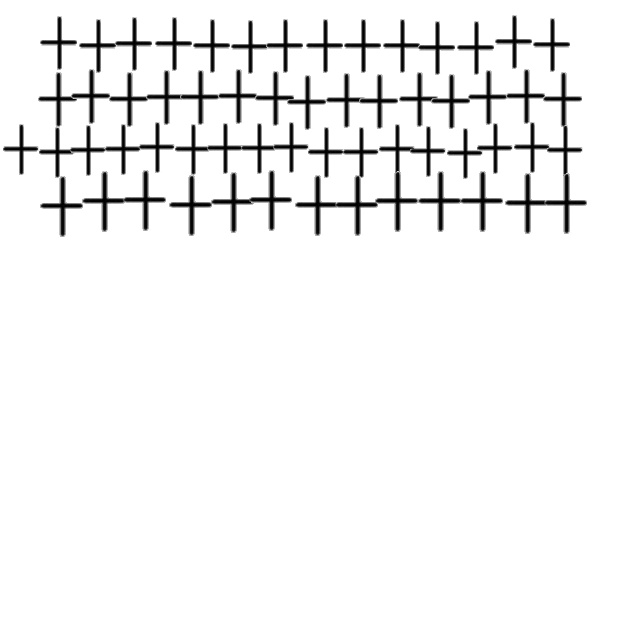double: (37, 176, 85, 238), (79, 171, 127, 233), (120, 170, 168, 232), (166, 175, 214, 237), (208, 172, 256, 234), (246, 170, 294, 232), (292, 175, 340, 237), (332, 175, 380, 237), (372, 171, 420, 233), (415, 171, 463, 233), (457, 171, 505, 233), (502, 173, 550, 235), (541, 173, 589, 235), (35, 72, 79, 128), (68, 69, 112, 125), (106, 72, 150, 128), (143, 70, 187, 126), (177, 70, 221, 126), (215, 69, 259, 125), (252, 71, 296, 127), (284, 75, 328, 131), (323, 73, 367, 129), (356, 74, 400, 130), (396, 72, 440, 128), (428, 74, 472, 130), (465, 70, 509, 126), (503, 69, 547, 125), (540, 72, 584, 128), (37, 16, 79, 72), (228, 20, 270, 76), (530, 18, 572, 74), (76, 20, 118, 74), (112, 18, 154, 72), (152, 18, 194, 72), (190, 20, 232, 74), (263, 20, 305, 74), (303, 20, 345, 74), (341, 20, 383, 74), (380, 20, 422, 74), (415, 22, 457, 76), (454, 22, 496, 76), (492, 16, 534, 70), (0, 124, 40, 176), (36, 127, 76, 179), (67, 125, 107, 177), (102, 124, 142, 176), (136, 122, 176, 174), (172, 124, 212, 176), (204, 123, 244, 175), (238, 123, 278, 175), (270, 122, 310, 174), (305, 127, 345, 179), (340, 127, 380, 179), (376, 124, 416, 176), (407, 126, 447, 178), (444, 128, 484, 180), (474, 123, 514, 175), (511, 122, 551, 174), (544, 125, 584, 177)
